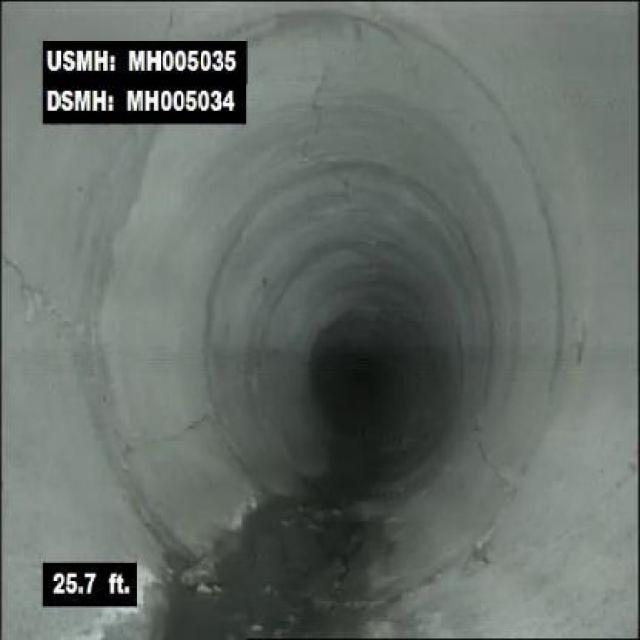Crack: (318, 524, 376, 608), (123, 412, 214, 460), (6, 256, 68, 324), (298, 68, 332, 160), (477, 438, 515, 498)
